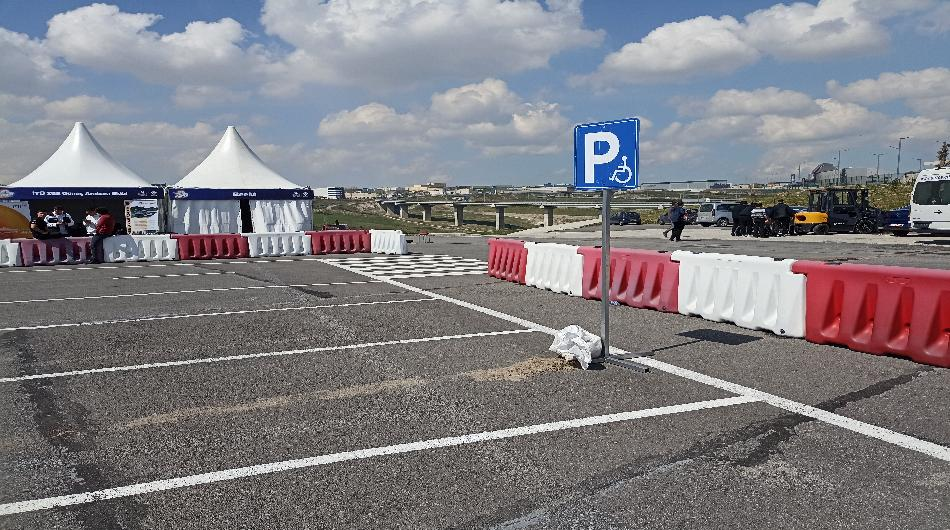engelli_park: (569, 109, 640, 194)
